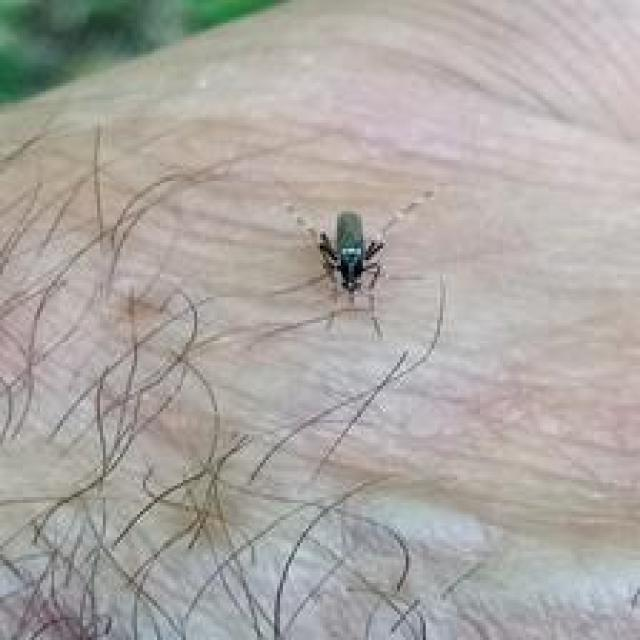Aedes albopictus: (314, 210, 386, 299)
